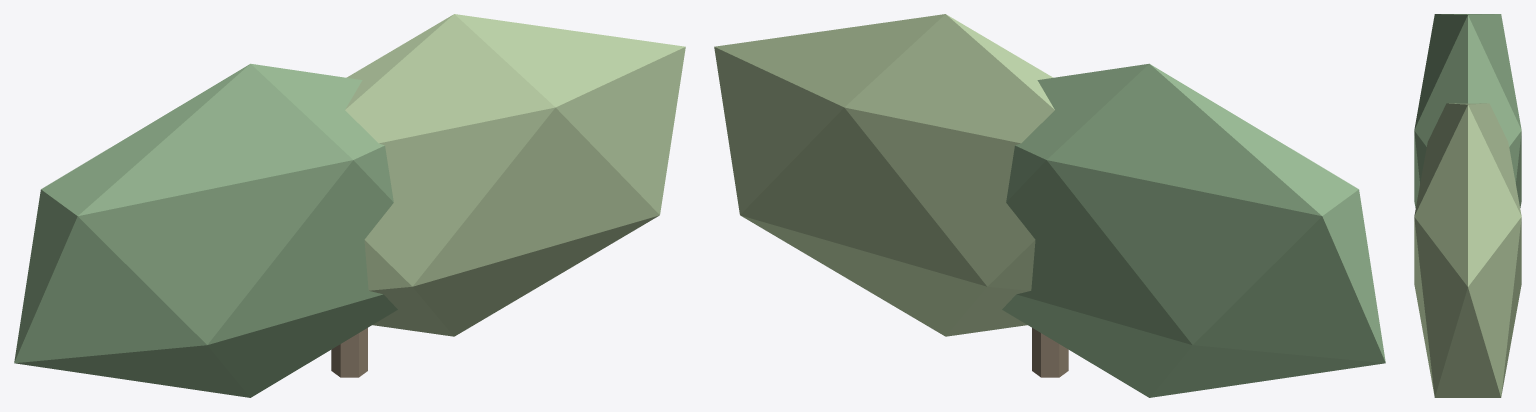
Rendered from SHRUB_COASTAL_LOW_001_LOD_MAP.glb.
3 renders of one model, left to right at view 1: azimuth 30°, elevation 25°; view 2: azimuth 150°, elevation 25°; view 3: azimuth 270°, elevation 25°, orthographic. The views are drawn at different scales.
Visible parts, largest first — view 1: SHRUB_COASTAL_LOW_001_LOD_MAP_CLUSTER_MAP_001, SHRUB_COASTAL_LOW_001_LOD_MAP_CLUSTER_MAP_002, SHRUB_COASTAL_LOW_001_LOD_MAP_BRANCH_001; view 2: SHRUB_COASTAL_LOW_001_LOD_MAP_CLUSTER_MAP_001, SHRUB_COASTAL_LOW_001_LOD_MAP_CLUSTER_MAP_002, SHRUB_COASTAL_LOW_001_LOD_MAP_BRANCH_001; view 3: SHRUB_COASTAL_LOW_001_LOD_MAP_CLUSTER_MAP_002, SHRUB_COASTAL_LOW_001_LOD_MAP_CLUSTER_MAP_001.
Boxes of the visible parts, x1,y1,x2,y2 form: SHRUB_COASTAL_LOW_001_LOD_MAP_CLUSTER_MAP_001: (14, 63, 397, 397); SHRUB_COASTAL_LOW_001_LOD_MAP_CLUSTER_MAP_002: (345, 14, 685, 336); SHRUB_COASTAL_LOW_001_LOD_MAP_BRANCH_001: (331, 328, 367, 377); SHRUB_COASTAL_LOW_001_LOD_MAP_CLUSTER_MAP_001: (1002, 63, 1385, 397); SHRUB_COASTAL_LOW_001_LOD_MAP_CLUSTER_MAP_002: (714, 14, 1054, 336); SHRUB_COASTAL_LOW_001_LOD_MAP_BRANCH_001: (1032, 328, 1068, 377); SHRUB_COASTAL_LOW_001_LOD_MAP_CLUSTER_MAP_002: (1414, 103, 1521, 397); SHRUB_COASTAL_LOW_001_LOD_MAP_CLUSTER_MAP_001: (1414, 14, 1521, 207).
Bounding box in the file's own units: 2.44 × 1.24 × 0.3743.
